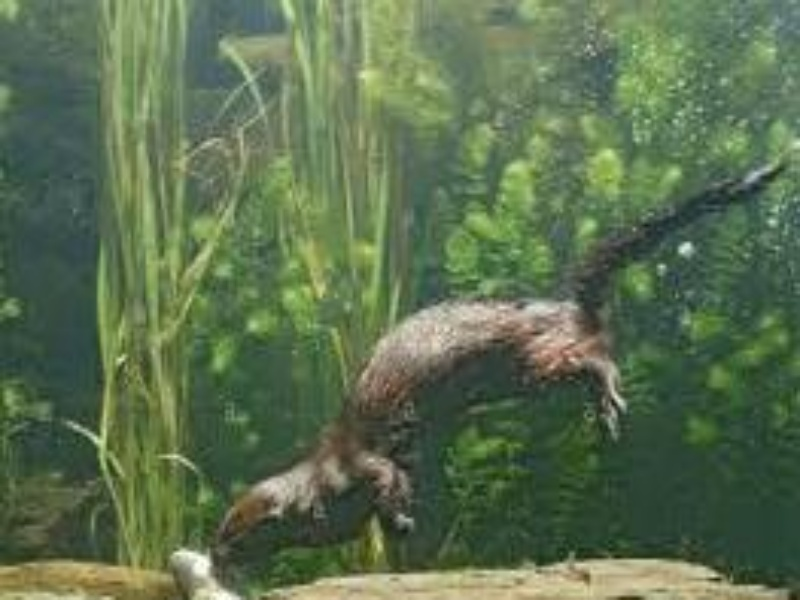minkish: (212, 152, 792, 562)
